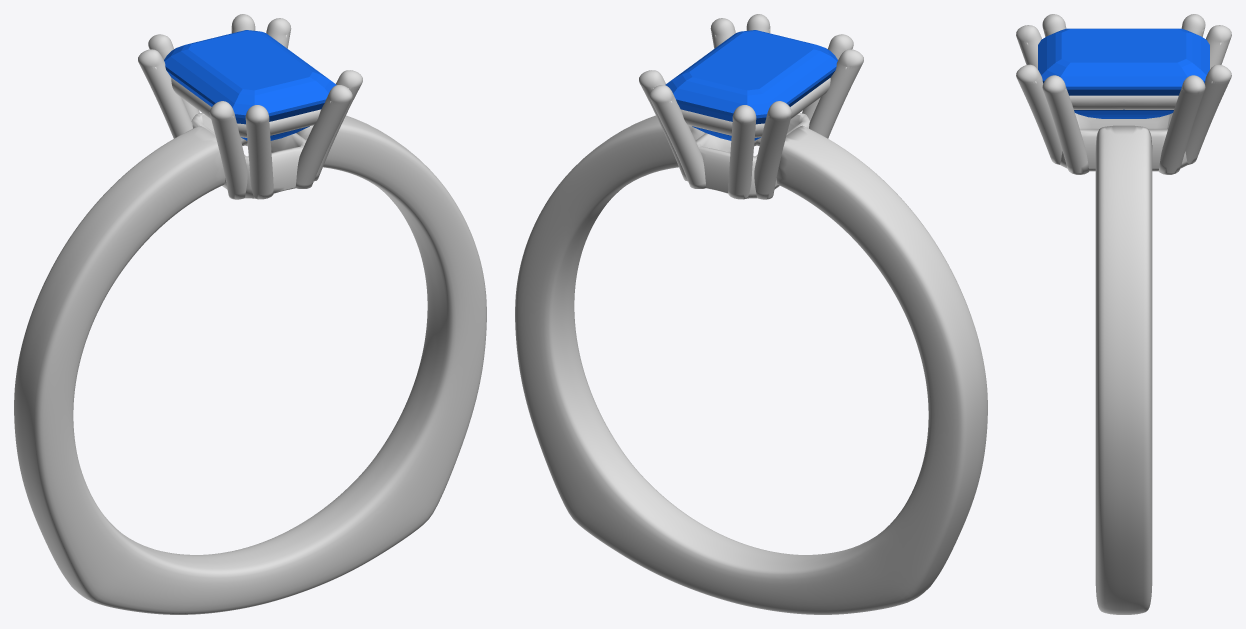
Rendered from bluesapphire-emerald-platinum-8prong-europeanshank-solitaire.glb.
The picture shows the model from 3 angles, left to right: view 1: azimuth 30°, elevation 25°; view 2: azimuth 150°, elevation 25°; view 3: azimuth 270°, elevation 25°; orthographic projection.
Parts seen in each view (by area): view 1: metal, stone; view 2: metal, stone; view 3: metal, stone.
Boxes of the visible parts, x1,y1,x2,y2 form: metal: (14,14,486,614); stone: (164,30,336,140); metal: (515,14,987,614); stone: (665,30,837,140); metal: (1016,14,1231,614); stone: (1038,28,1209,118).
Bounding box in the file's own units: 20.1 × 22.75 × 8.4.
